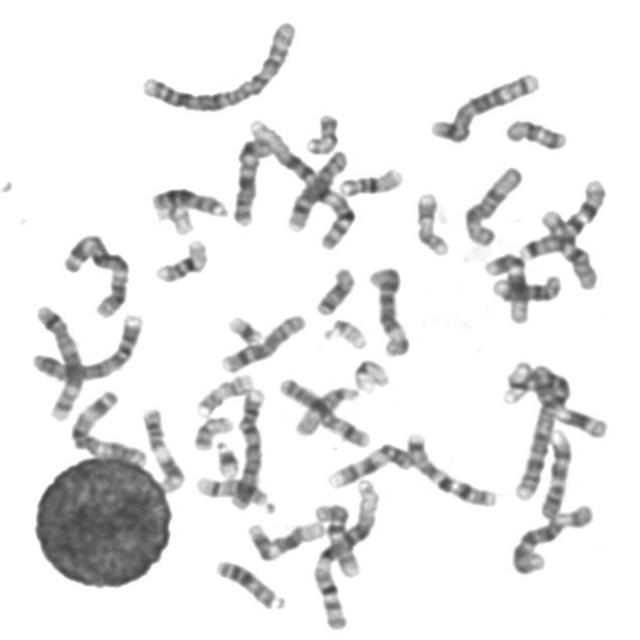A1: (242, 111, 358, 251), (307, 473, 384, 631)
A2: (132, 14, 298, 114), (507, 361, 572, 502)
A3: (63, 383, 150, 466), (56, 225, 132, 319)
B4: (25, 307, 146, 384), (224, 382, 267, 511)
B5: (424, 64, 543, 144), (27, 297, 87, 423)
C10: (534, 203, 601, 291), (307, 496, 363, 579)
C11: (521, 359, 611, 439), (136, 401, 187, 494)
C12: (477, 245, 533, 326), (241, 513, 329, 562)
C6: (504, 496, 597, 577), (362, 259, 413, 358)
C7: (513, 172, 610, 262), (399, 425, 499, 508)
C8: (281, 144, 352, 234), (214, 306, 307, 374)
C9: (320, 436, 415, 490), (534, 423, 574, 521)
D13: (209, 553, 287, 612), (144, 179, 230, 220)
D14: (190, 468, 278, 513), (486, 266, 565, 304)
D15: (283, 376, 366, 442), (288, 379, 362, 439)
E16: (148, 231, 210, 284), (332, 159, 406, 198)
E17: (190, 367, 255, 417), (409, 184, 452, 258)
E18: (498, 111, 570, 152), (308, 260, 358, 317)
F19: (498, 349, 542, 407), (347, 352, 392, 395)
F20: (187, 408, 235, 452), (299, 106, 342, 155)
G21: (221, 308, 265, 348), (210, 433, 241, 479)
G22: (318, 311, 370, 351), (158, 198, 196, 236)
X: (226, 130, 274, 228)
